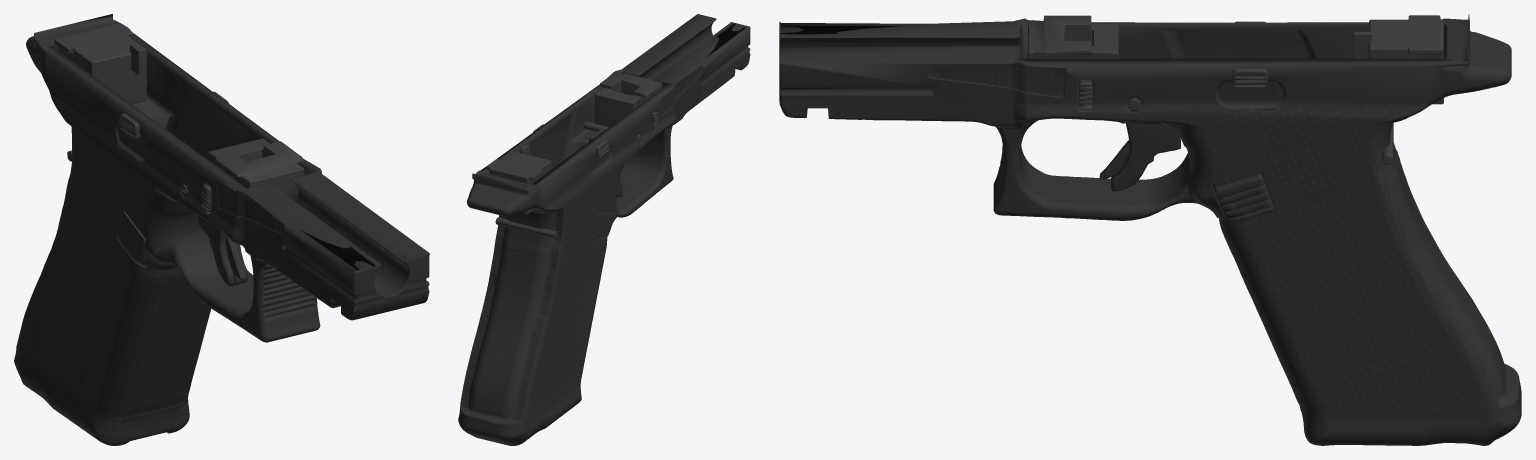
Rendered from SM_G17_Frame.fbx.
3 views of the same model, side by side, from view 1: azimuth 30°, elevation 25°; view 2: azimuth 150°, elevation 25°; view 3: azimuth 270°, elevation 25° (orthographic). The views are drawn at different scales.
Parts seen in each view (by area): view 1: SM_G17_Frame; view 2: SM_G17_Frame; view 3: SM_G17_Frame.
Part boxes in pixels (x1,y1,x2,y2): SM_G17_Frame: [14, 14, 429, 445]; SM_G17_Frame: [458, 14, 750, 445]; SM_G17_Frame: [779, 14, 1521, 445].
Size of what is drawn, in the model's own units: 3.18 by 18.72 by 11.29.
